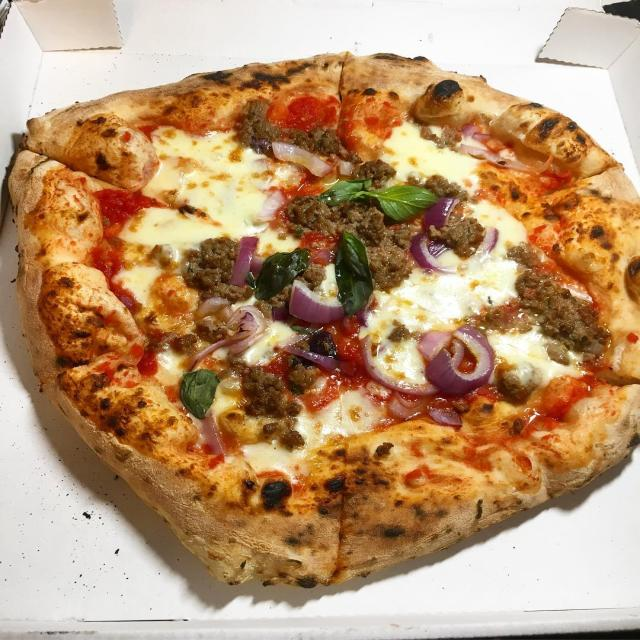basil: (314, 177, 438, 220), (325, 226, 376, 323), (246, 248, 314, 300), (176, 367, 222, 419), (285, 320, 315, 343)
pizza: (10, 53, 640, 588)
